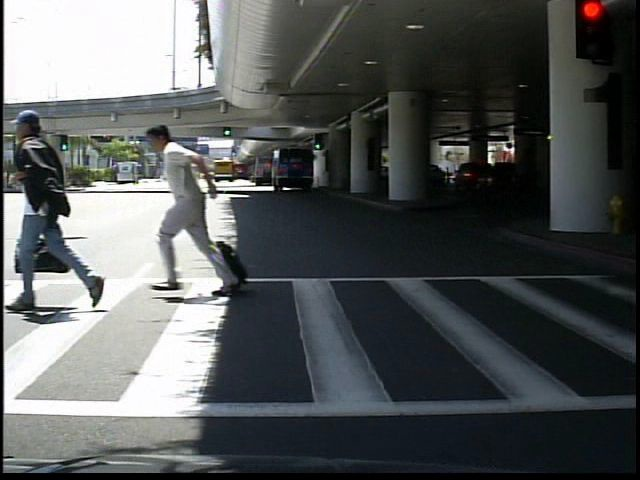person: (21, 107, 111, 316), (156, 119, 234, 298)
